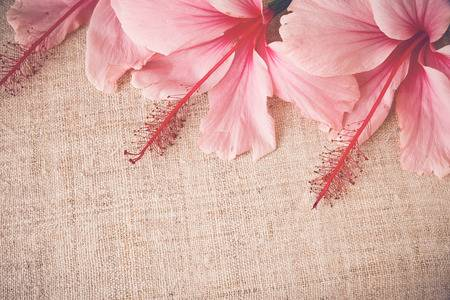Hibiscus: (84, 4, 288, 177), (292, 1, 446, 224), (3, 1, 79, 101)
